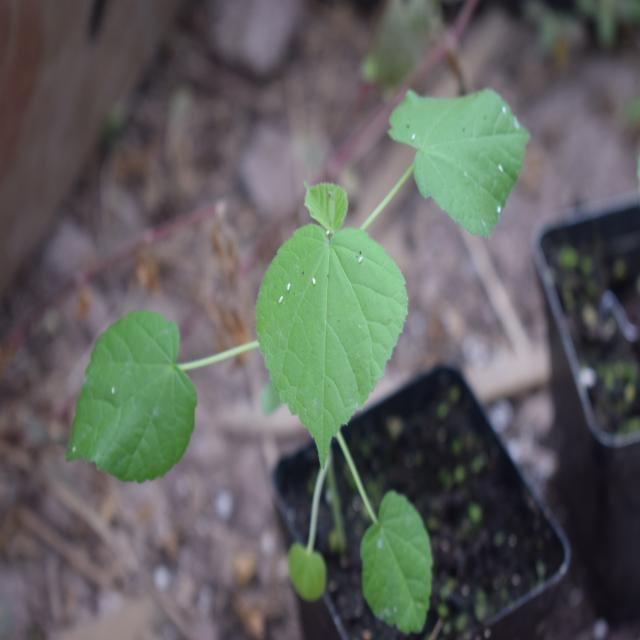abutilon theophrasti: (86, 84, 554, 626)
